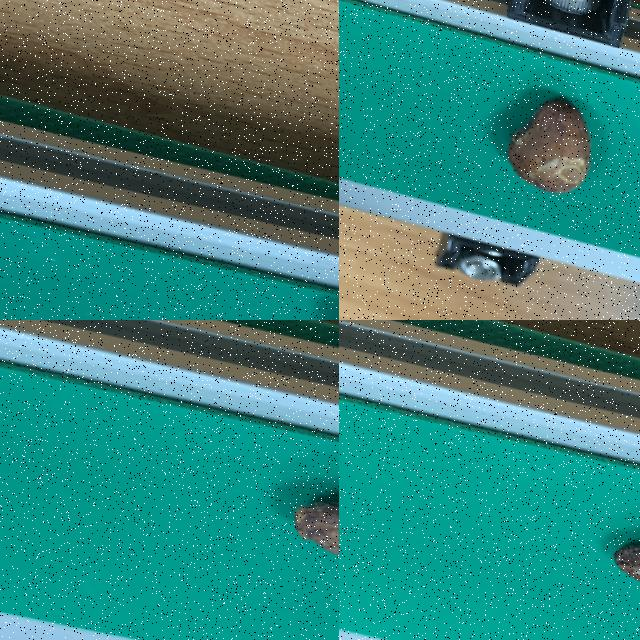Fine_cocoabeans: (414, 27, 639, 223)
Flat_cocoabeans: (199, 421, 338, 623), (552, 451, 639, 639)
